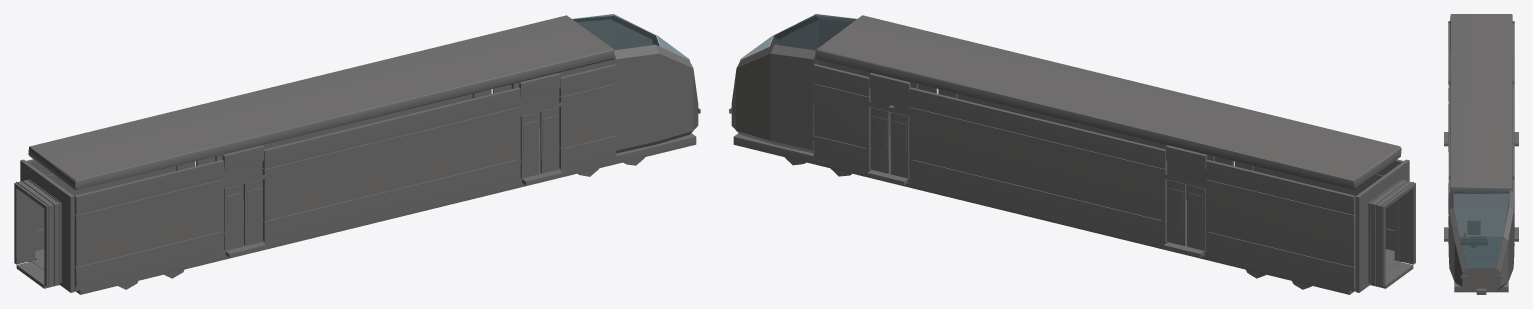
File: CAB_LOD1.glb
3 renders of one model, left to right at view 1: azimuth 30°, elevation 25°; view 2: azimuth 150°, elevation 25°; view 3: azimuth 270°, elevation 25°, orthographic. The views are drawn at different scales.
Visible parts, largest first — view 1: CAB_LOD1_VISUAL; view 2: CAB_LOD1_VISUAL; view 3: CAB_LOD1_VISUAL.
Part boxes in pixels (bbox=[...]): CAB_LOD1_VISUAL: bbox=[14, 14, 700, 294]; CAB_LOD1_VISUAL: bbox=[729, 14, 1415, 294]; CAB_LOD1_VISUAL: bbox=[1444, 14, 1518, 294].
Size of the model in its own units: 76.75 by 14.58 by 11.43.
Materials: 9 (9 with a texture image).
